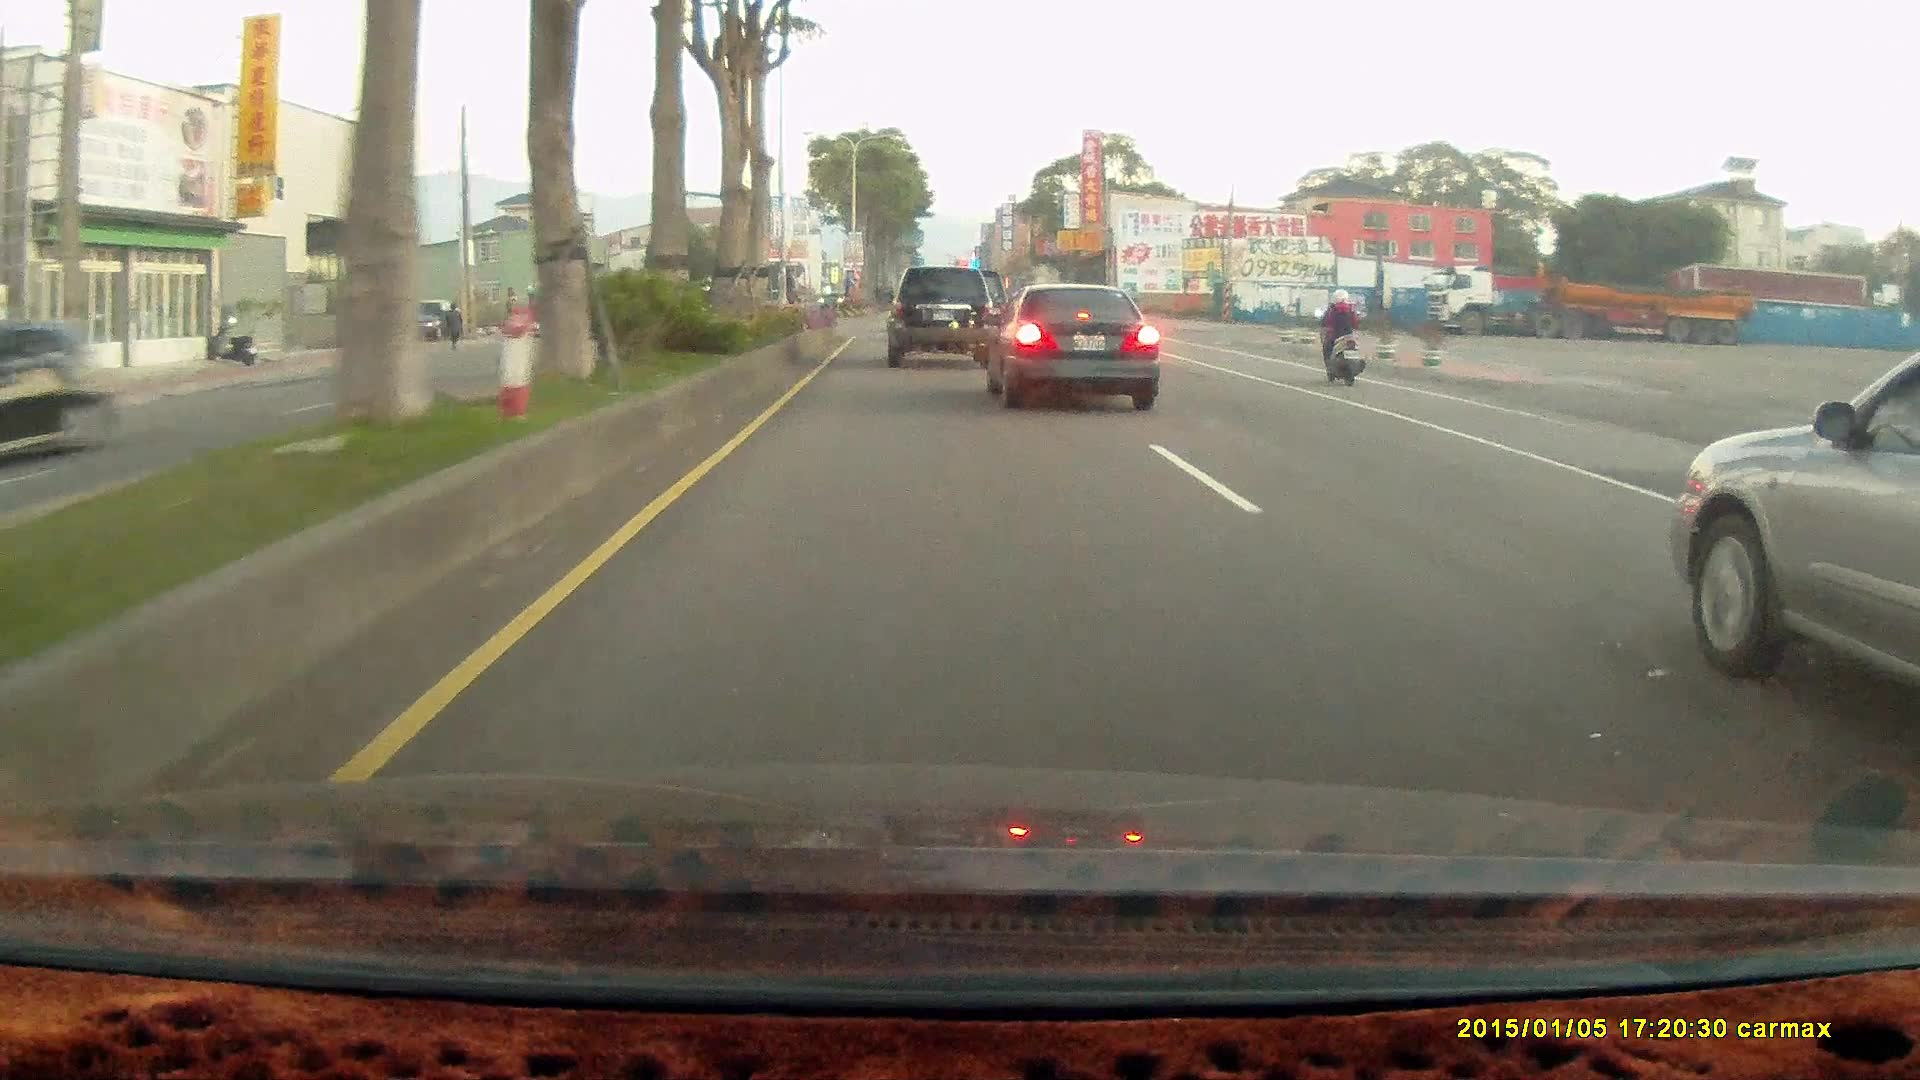pedestrian: (442, 300, 464, 348)
rider: (1310, 284, 1373, 388), (1311, 285, 1365, 384)
vehicle: (1668, 341, 1920, 726), (1420, 266, 1751, 345), (982, 282, 1161, 413), (985, 283, 1159, 407), (0, 321, 116, 467), (1, 322, 117, 468), (880, 262, 1000, 366), (881, 264, 995, 365), (389, 298, 461, 345)
